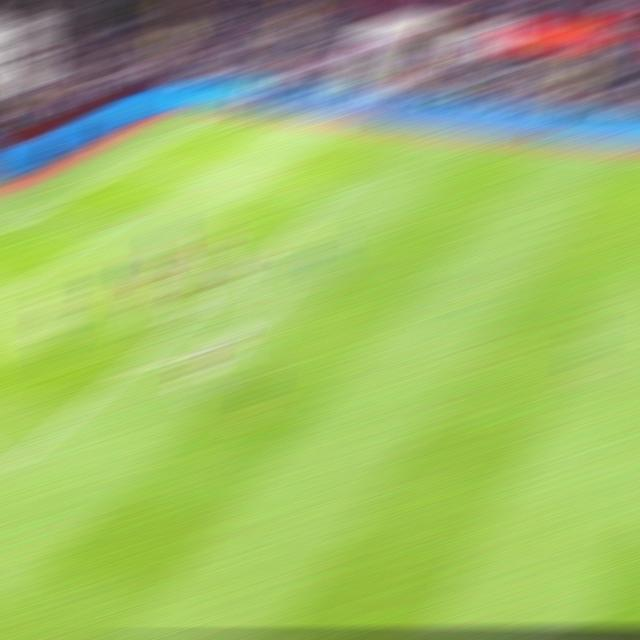bigarea_top_inner: (321, 192, 349, 198)
bigarea_top_outter: (115, 163, 142, 168)
bottom_arc_area_intersection: (114, 362, 145, 374)
corner: (204, 114, 234, 115)
smallarea_top_inner: (97, 223, 126, 231)
smallarea_top_outter: (27, 212, 53, 218)
top_arc_area_intersection: (244, 257, 272, 265)
